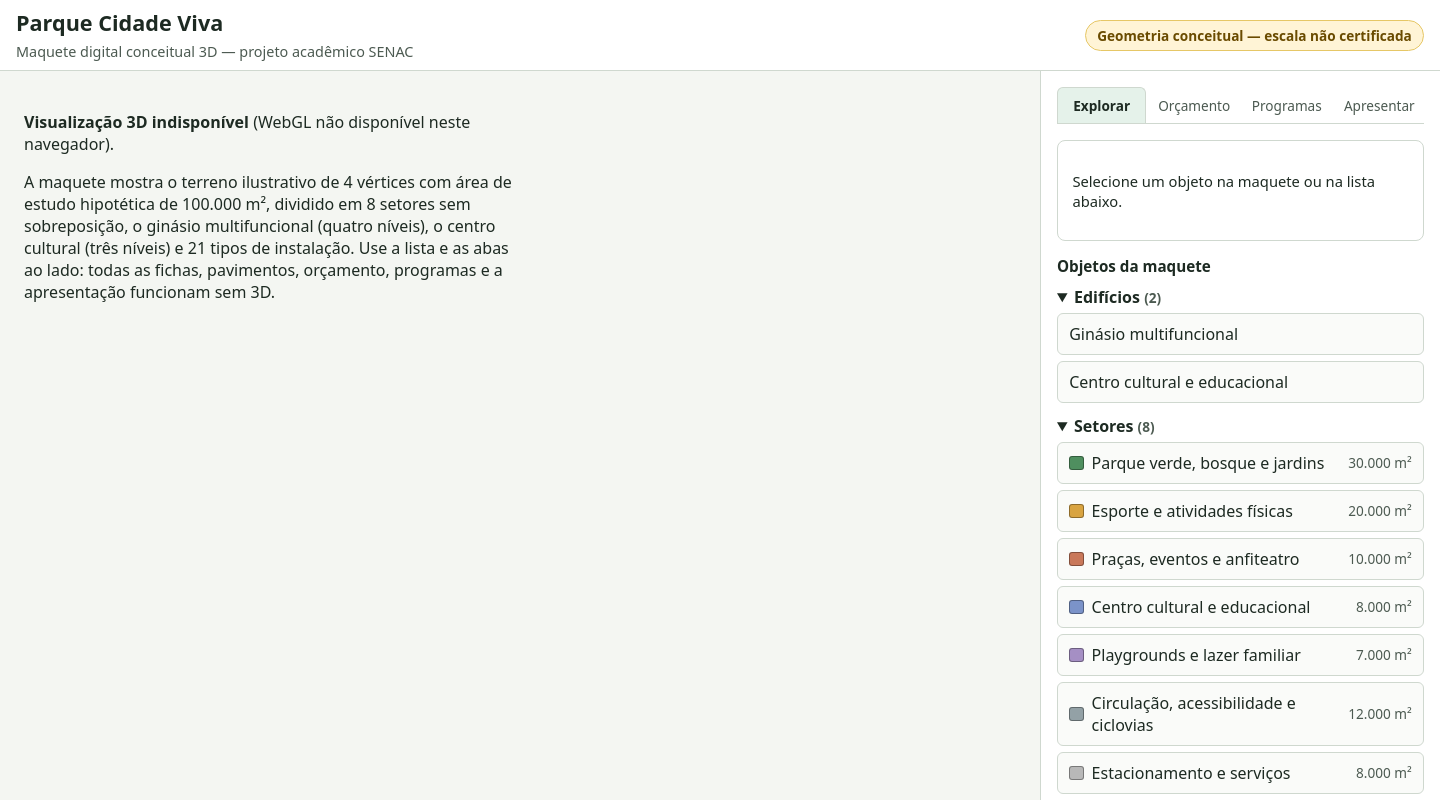
seleção sem WebGL (lista acessível) › setor e terreno também abrem fichas com status hipotético
Click the button "Esporte e atividades físicas 20.000 m²". click: (1240, 511)
box: [1057, 490, 1424, 532]
(page scrolled)
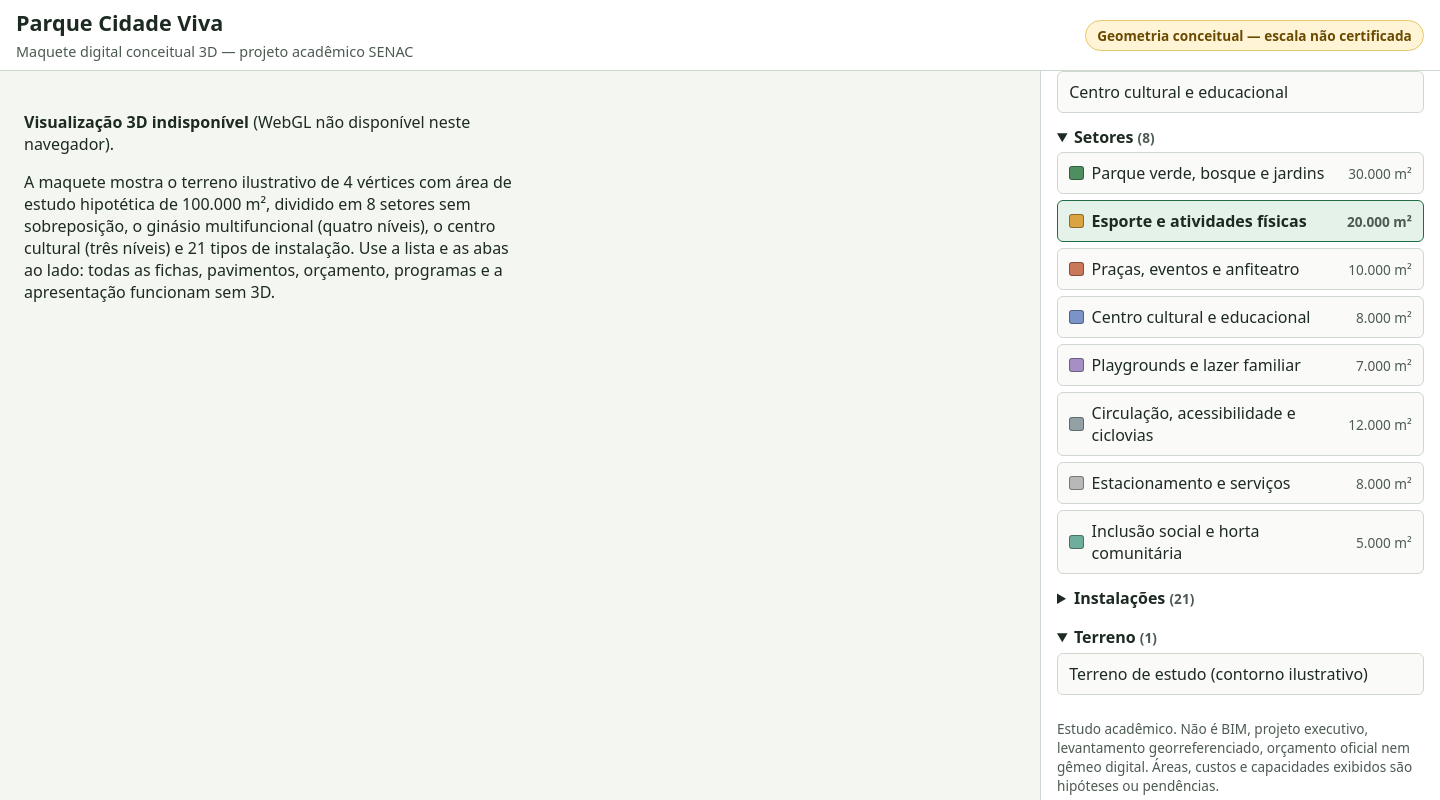
Click the button "Terreno de estudo (contorno ilustrativo)". click: (1240, 674)
box: [1057, 653, 1424, 695]
(page scrolled)
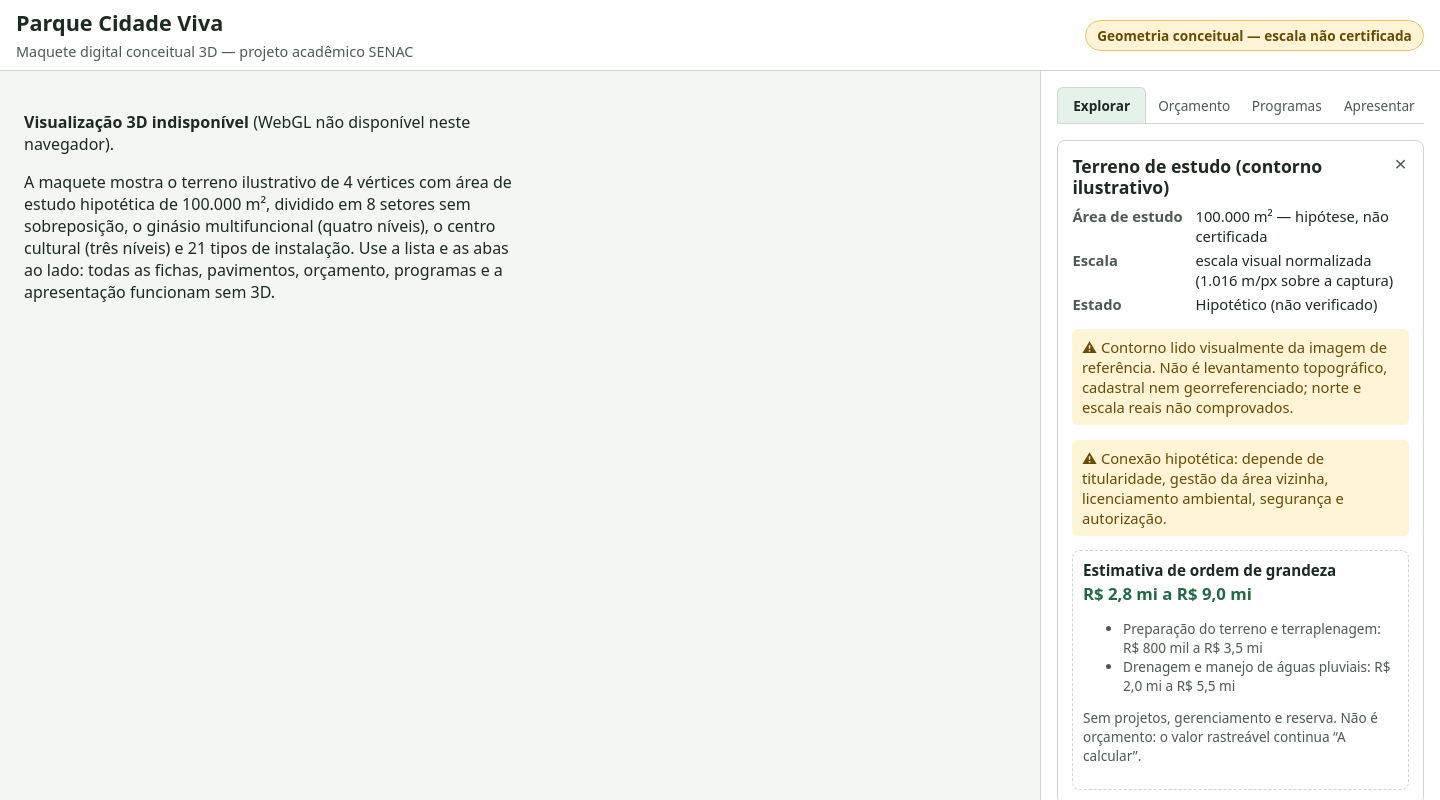
Now the text "100.000 m² — hipótese, não certificada" is shown, box [1196, 206, 1409, 246]
